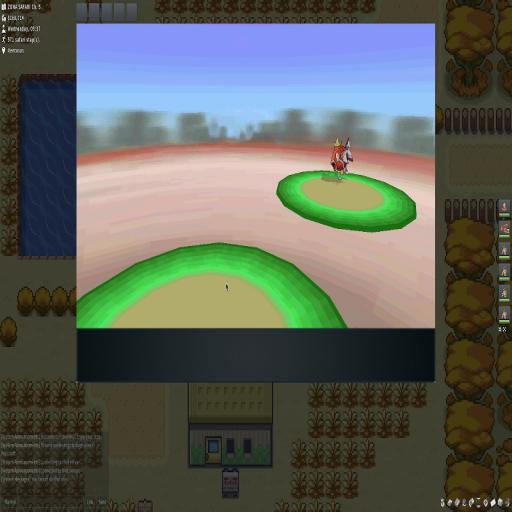MAGIKARP: (327, 136, 354, 184)
